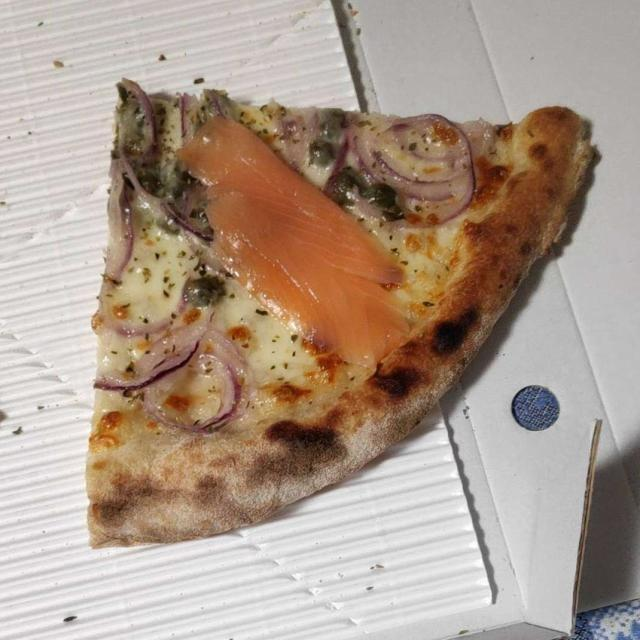capers: (304, 116, 400, 233)
onion: (94, 97, 487, 439)
pizza: (86, 91, 581, 547)
salmon: (192, 118, 392, 371)
